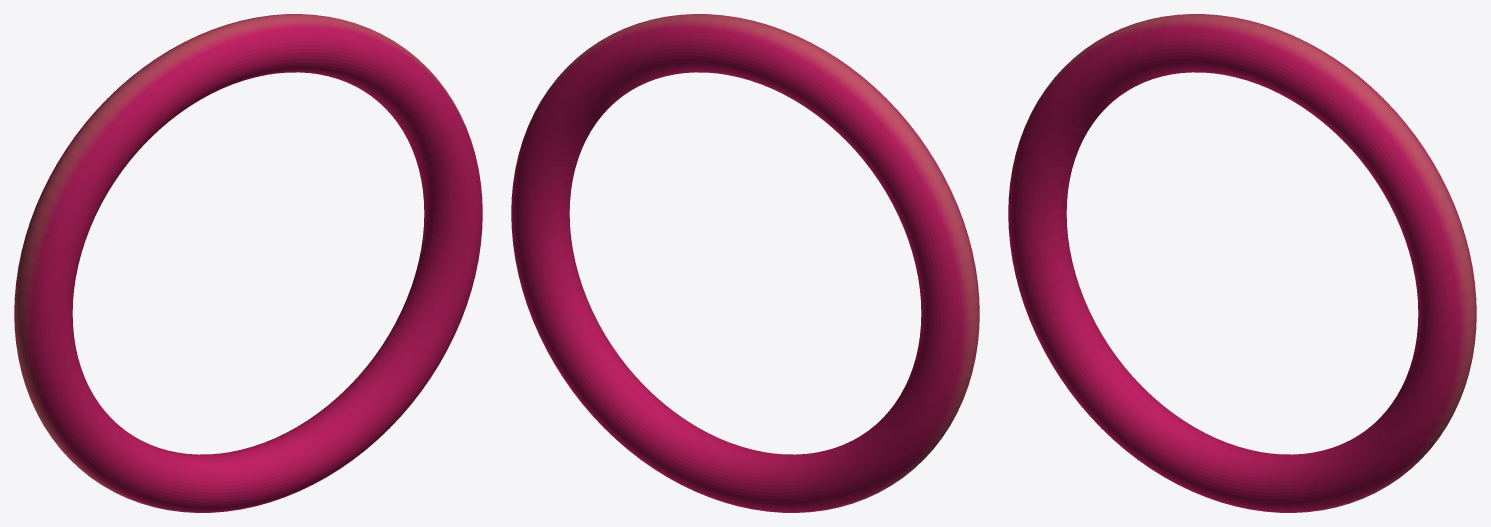
3 views of the same model, side by side, from view 1: azimuth 30°, elevation 25°; view 2: azimuth 150°, elevation 25°; view 3: azimuth 330°, elevation 25° (orthographic).
Visible parts, largest first — view 1: world; view 2: world; view 3: world.
Boxes of the visible parts, bbox=[...] form: world: bbox=[14, 14, 482, 512]; world: bbox=[511, 14, 979, 512]; world: bbox=[1008, 14, 1476, 512].
Size of the model in its own units: 25.47 by 25.47 by 2.79.
